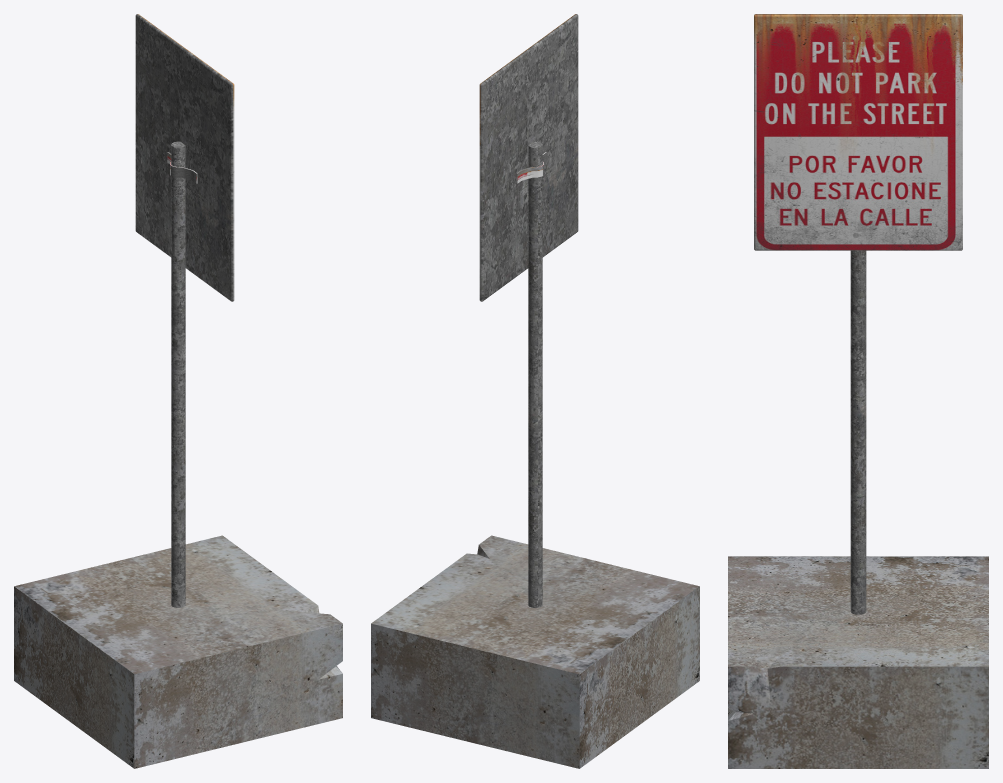
File: sign_plate.obj
3 views of the same model, side by side, from view 1: azimuth 30°, elevation 25°; view 2: azimuth 150°, elevation 25°; view 3: azimuth 270°, elevation 25° (orthographic). The views are drawn at different scales.
Visible parts, largest first — view 1: Cube_Mesh.003, Cube_1_Mesh.001, Cylinder_Mesh.002; view 2: Cube_Mesh.003, Cube_1_Mesh.001, Cylinder_Mesh.002; view 3: Cube_Mesh.003, Cube_1_Mesh.001, Cylinder_Mesh.002.
Part boxes in pixels (x1,y1,x2,y2): Cube_Mesh.003: (14, 535, 342, 768); Cube_1_Mesh.001: (135, 14, 234, 301); Cylinder_Mesh.002: (171, 141, 185, 607); Cube_Mesh.003: (371, 535, 699, 768); Cube_1_Mesh.001: (479, 14, 578, 301); Cylinder_Mesh.002: (528, 141, 542, 607); Cube_Mesh.003: (728, 556, 988, 768); Cube_1_Mesh.001: (754, 14, 962, 250); Cylinder_Mesh.002: (850, 250, 866, 614).
Size of the model in its own units: 2 by 5.95 by 2.
4 materials, 4 textured.
